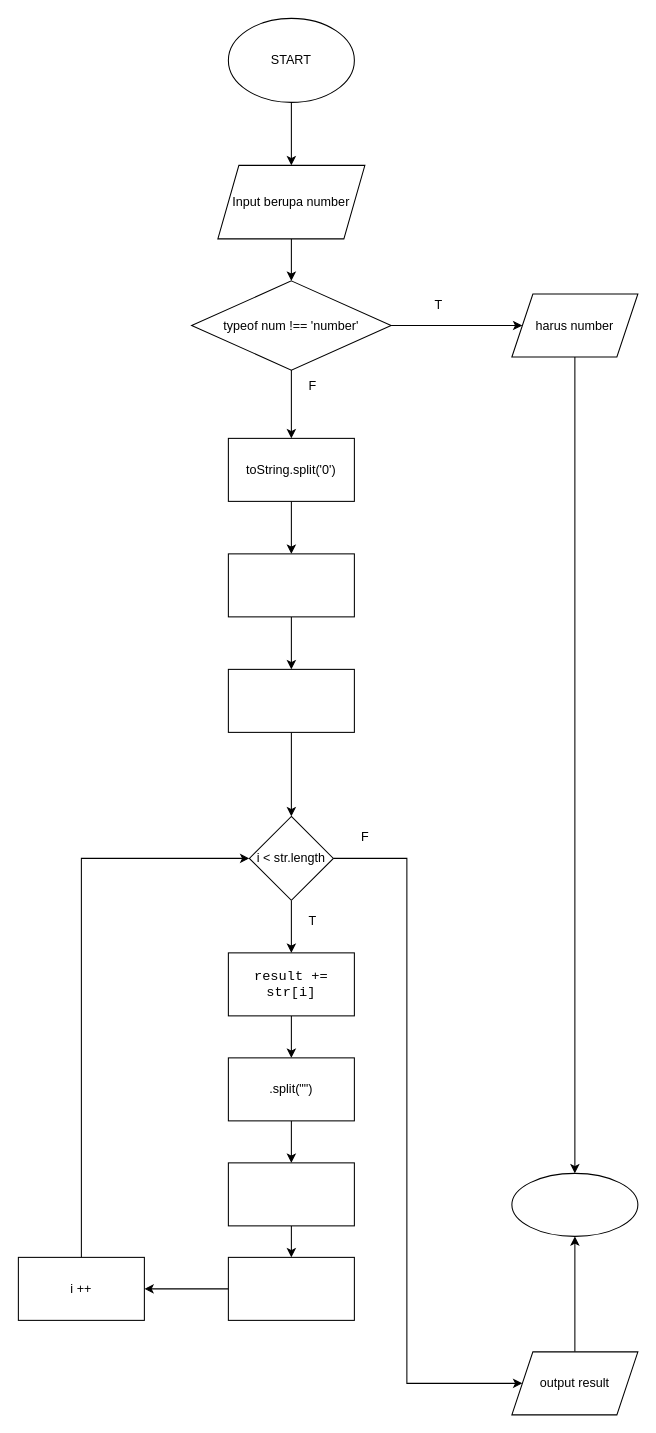
The diagram is 656 pixels wide and 1433 high, and some of its shapes have lost their labels. The shapes that lost their labels are listed below. From the top down, each one's box as (x1, y1, x2, y2) in pixels, then its label:
(227, 553, 354, 617): result = " "
(227, 668, 354, 732): i = 0
(227, 1162, 354, 1226): .sort()
(511, 1172, 638, 1236): END
(227, 1256, 354, 1320): .join(" ")
